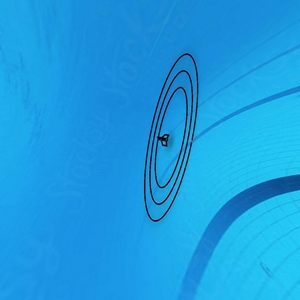circle: (142, 51, 201, 228)
submarine: (160, 137, 171, 146)
